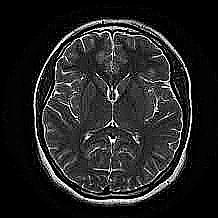Normal_Brain: (22, 1, 218, 218)
